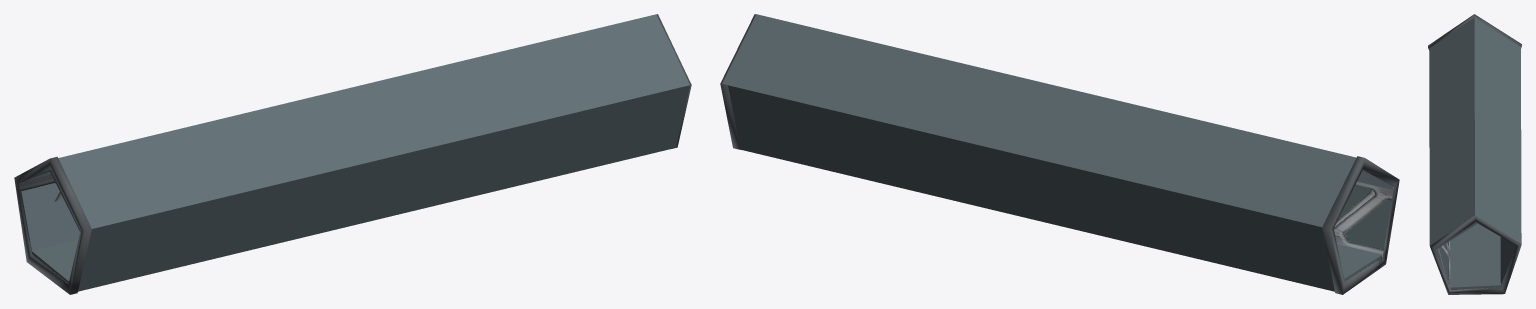
Rendered from Tube_Walking.fbx.
3 views of the same model, side by side, from view 1: azimuth 30°, elevation 25°; view 2: azimuth 150°, elevation 25°; view 3: azimuth 270°, elevation 25° (orthographic). The views are drawn at different scales.
Parts seen in each view (by area): view 1: TubeCollMesh, TubeWalking; view 2: TubeCollMesh, TubeWalking; view 3: TubeCollMesh, TubeWalking.
Part boxes in pixels (bbox=[...]): TubeCollMesh: bbox=[20, 14, 689, 291]; TubeWalking: bbox=[14, 14, 691, 294]; TubeCollMesh: bbox=[722, 14, 1392, 291]; TubeWalking: bbox=[720, 14, 1399, 294]; TubeCollMesh: bbox=[1429, 17, 1521, 289]; TubeWalking: bbox=[1428, 14, 1521, 294].
Bounding box in the file's own units: 767 × 148 × 153.
